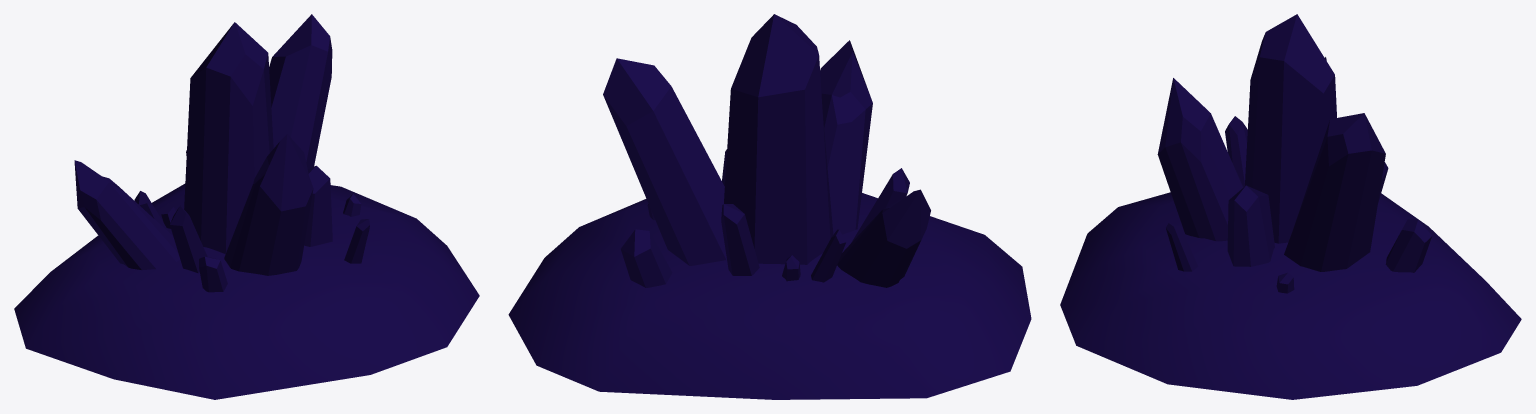
The model's file is Crystal01.FBX.
The picture shows the model from 3 angles, left to right: view 1: azimuth 30°, elevation 25°; view 2: azimuth 150°, elevation 25°; view 3: azimuth 270°, elevation 25°; orthographic projection. The views are drawn at different scales.
Visible parts, largest first — view 1: Crystal01; view 2: Crystal01; view 3: Crystal01.
Part boxes in pixels (x1,y1,x2,y2): Crystal01: (14, 14, 479, 399); Crystal01: (508, 14, 1031, 399); Crystal01: (1060, 14, 1521, 399).
Size of the model in its own units: 43.32 by 26.87 by 40.05.
